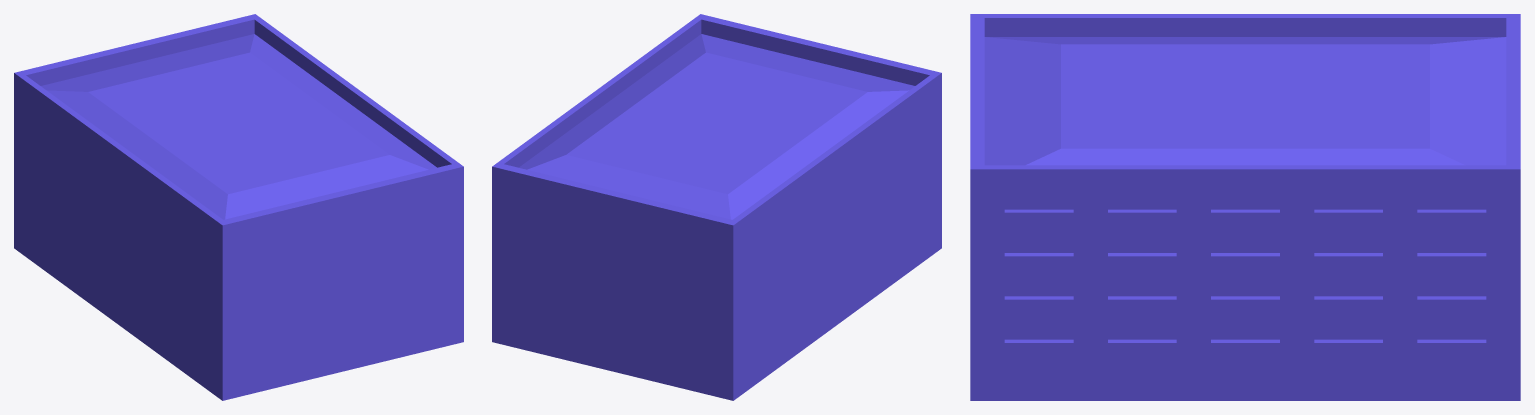
The model's file is budynek2.glb.
3 views of the same model, side by side, from view 1: azimuth 30°, elevation 25°; view 2: azimuth 150°, elevation 25°; view 3: azimuth 270°, elevation 25° (orthographic). The views are drawn at different scales.
Parts seen in each view (by area): view 1: Cube; view 2: Cube; view 3: Cube.
Part boxes in pixels (x1=…): Cube: x1=14, y1=14, x2=463, y2=400; Cube: x1=492, y1=14, x2=941, y2=400; Cube: x1=970, y1=14, x2=1520, y2=400.
Bounding box in the file's own units: 8.25 × 5.74 × 12.35.
